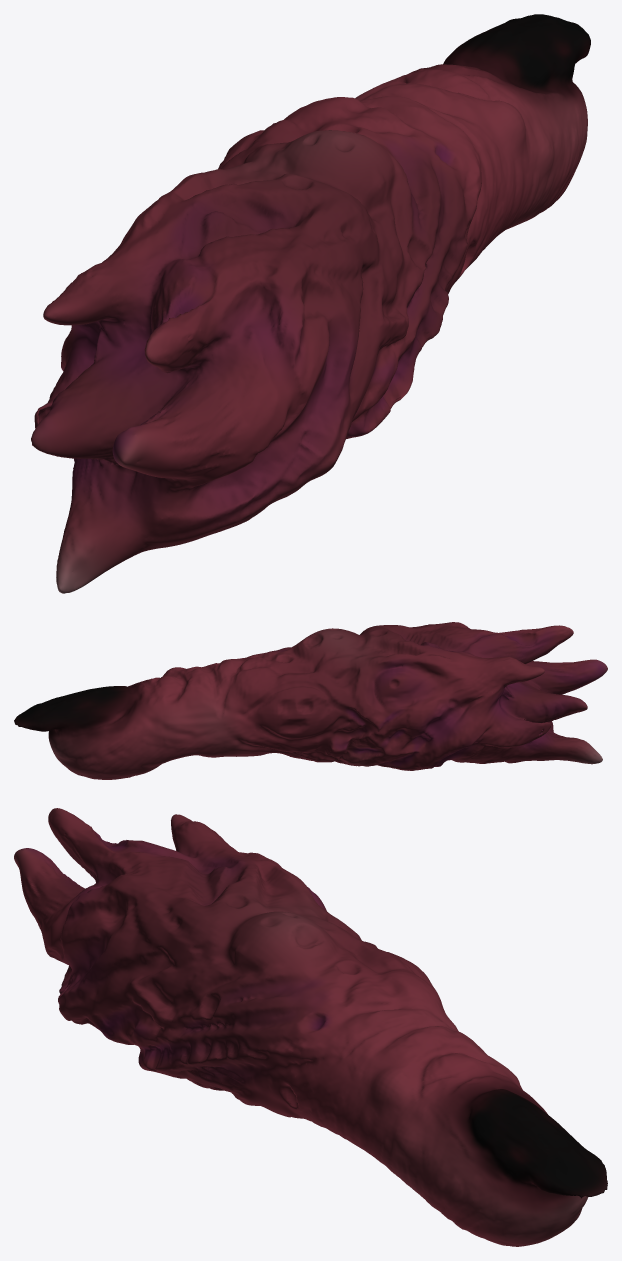
The model's file is sukuna.fbx.
3 views of the same model, one above another, from view 1: azimuth 30°, elevation 25°; view 2: azimuth 150°, elevation 25°; view 3: azimuth 270°, elevation 25° (orthographic). The views are drawn at different scales.
Parts seen in each view (by area): view 1: Cube; view 2: Cube; view 3: Cube.
Part boxes in pixels (x1=…): Cube: x1=31, y1=14, x2=590, y2=593; Cube: x1=14, y1=622, x2=607, y2=779; Cube: x1=14, y1=808, x2=607, y2=1246.
Bounding box in the file's own units: 568 × 169 × 440.
